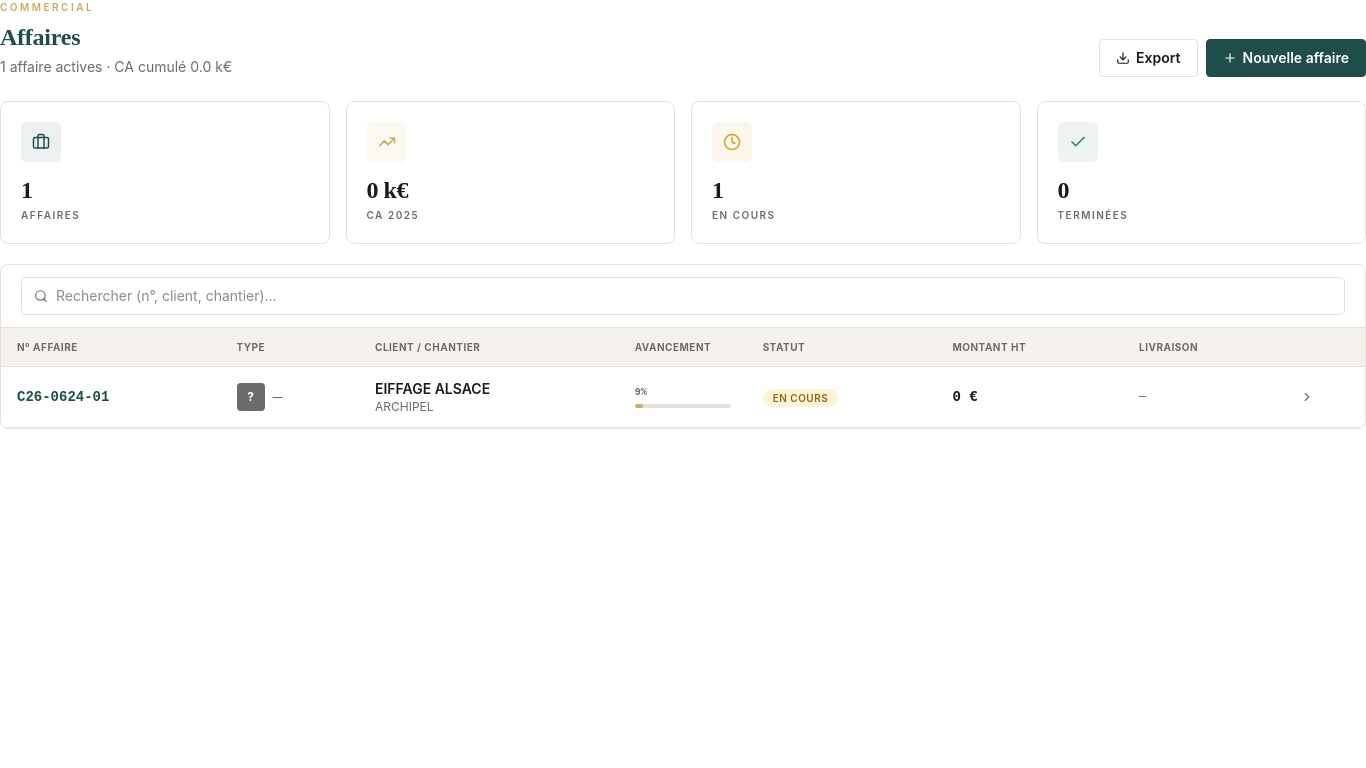
Test: AffairesPage › ouvre la modale Nouvelle affaire au clic
This screenshot has width=1366, height=768.
Click the button "Nouvelle affaire" at (1286, 58), box [1206,39,1365,77]
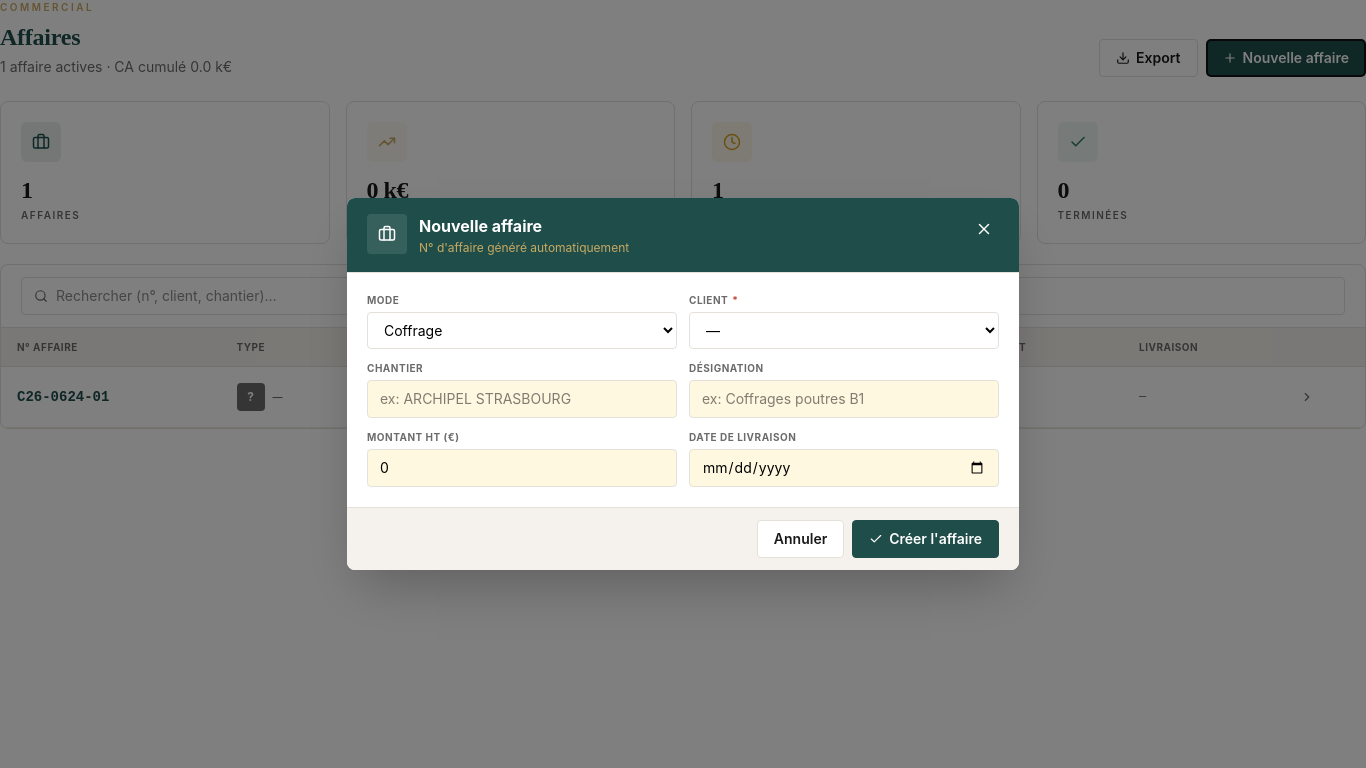
Check: the text "Désignation" is shown, box [689,362,764,374]
Check: the button "Créer l'affaire" is shown, box [852,520,999,558]
